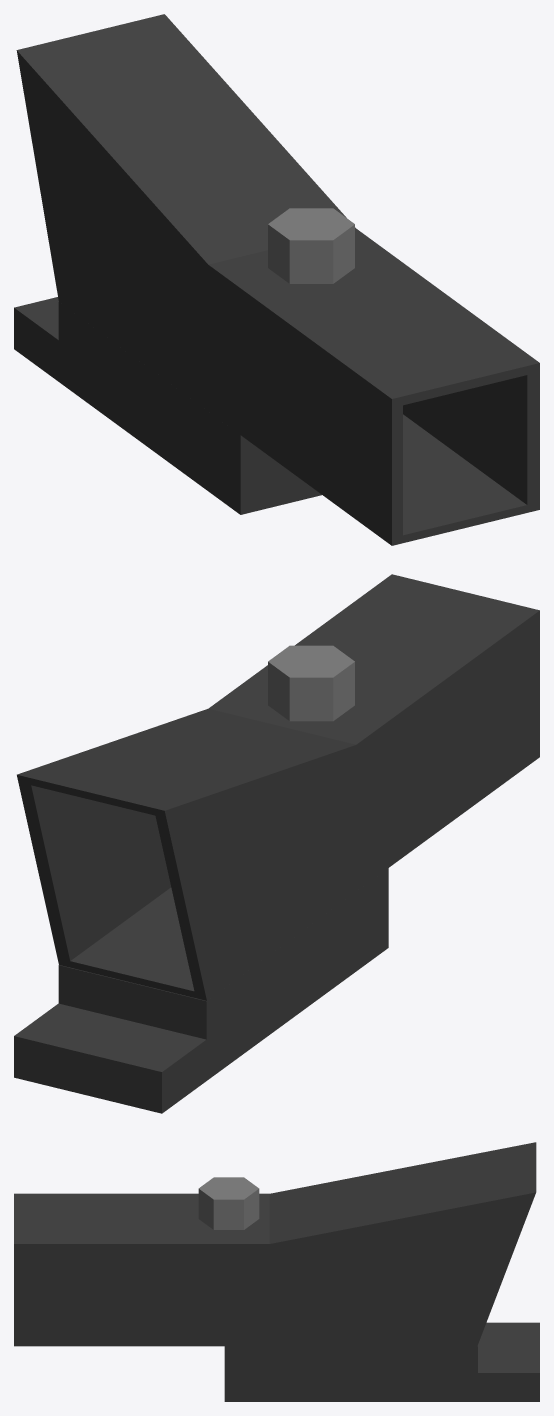
File: acog.obj
3 renders of one model, top to bottom at view 1: azimuth 30°, elevation 25°; view 2: azimuth 150°, elevation 25°; view 3: azimuth 270°, elevation 25°, orthographic. The views are drawn at different scales.
Visible parts, largest first — view 1: Cylinder; view 2: Cylinder; view 3: Cylinder.
Part boxes in pixels (x1,y1,x2,y2): Cylinder: (14,14,539,545); Cylinder: (14,574,539,1113); Cylinder: (14,1142,539,1401).
Size of the model in its own units: 2 by 3.89 by 8.84.
